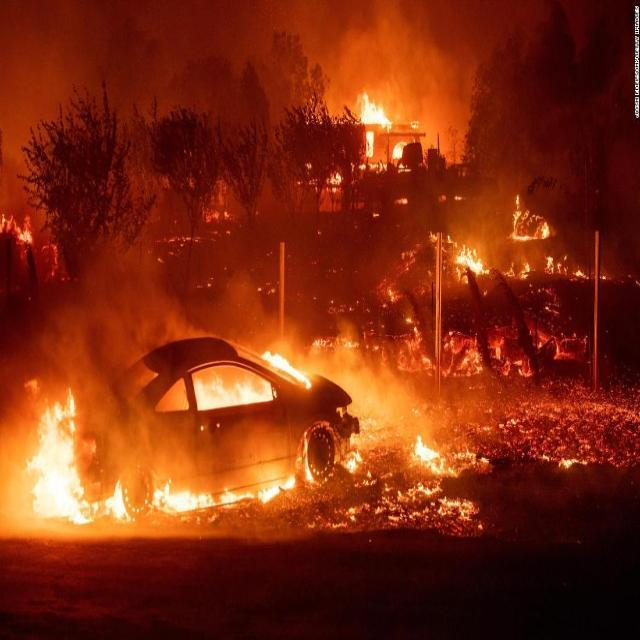Smoke: (314, 0, 481, 164)
